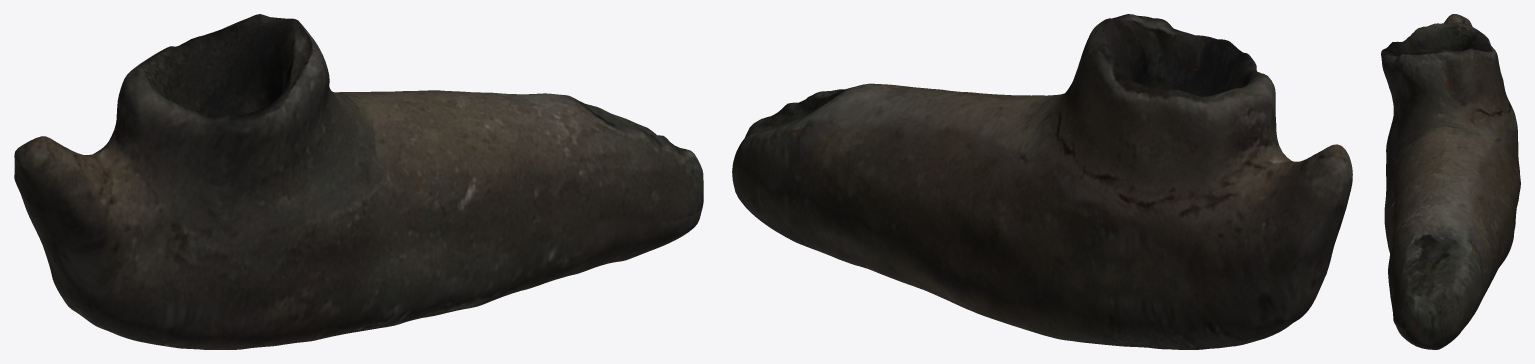
Rendered from Pipa2_2.gltf.
The picture shows the model from 3 angles, left to right: view 1: azimuth 30°, elevation 25°; view 2: azimuth 150°, elevation 25°; view 3: azimuth 270°, elevation 25°; orthographic projection. The views are drawn at different scales.
Parts seen in each view (by area): view 1: TexturedMesh.001; view 2: TexturedMesh.001; view 3: TexturedMesh.001.
Part boxes in pixels (box(x1,y1,x2,y2)): TexturedMesh.001: box(14, 14, 703, 349); TexturedMesh.001: box(732, 14, 1352, 349); TexturedMesh.001: box(1381, 14, 1520, 349).
Size of the model in its own units: 0.4038 by 0.1892 by 0.1182.
Materials: 1 (1 with a texture image).
